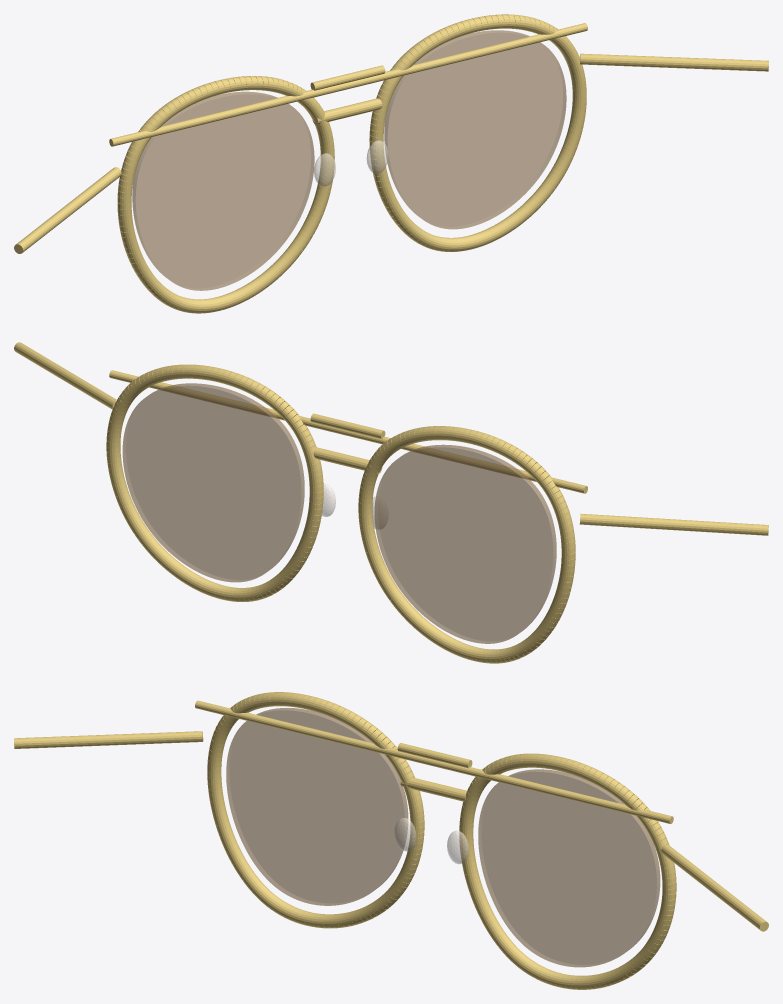
Rendered from w25-gold-brown-aviators.glb.
The picture shows the model from 3 angles, top to bottom: view 1: azimuth 30°, elevation 25°; view 2: azimuth 150°, elevation 25°; view 3: azimuth 330°, elevation 25°; orthographic projection.
Parts seen in each view (by area): view 1: lens_-1, lens_1, top_bar, right_temple, left_temple, bridge, brow_bridge, nose_pad_-0.045, nose_pad_0.045; view 2: lens_1, lens_-1, top_bar, left_temple, right_temple, brow_bridge, bridge; view 3: lens_1, lens_-1, top_bar, left_temple, right_temple, bridge, brow_bridge, nose_pad_-0.045, nose_pad_0.045.
Part boxes in pixels (<box>): lens_-1: <box>132,91,314,290</box>; lens_1: <box>384,30,566,229</box>; top_bar: <box>109,23,587,146</box>; right_temple: <box>580,53,768,71</box>; left_temple: <box>14,167,121,253</box>; bridge: <box>312,98,382,124</box>; brow_bridge: <box>310,65,385,90</box>; nose_pad_-0.045: <box>314,153,335,186</box>; nose_pad_0.045: <box>366,140,388,173</box>; lens_1: <box>122,383,304,582</box>; lens_-1: <box>374,444,556,643</box>; top_bar: <box>109,370,587,493</box>; left_temple: <box>579,513,768,535</box>; right_temple: <box>14,342,116,409</box>; brow_bridge: <box>310,413,385,438</box>; bridge: <box>313,447,382,473</box>; lens_1: <box>478,769,660,967</box>; lens_-1: <box>226,708,408,905</box>; top_bar: <box>195,700,673,823</box>; left_temple: <box>14,731,203,748</box>; right_temple: <box>661,844,768,931</box>; bridge: <box>400,778,466,801</box>; brow_bridge: <box>397,743,472,768</box>; nose_pad_-0.045: <box>394,818,416,851</box>; nose_pad_0.045: <box>447,830,468,864</box>.
Size of the model in its own units: 1.29 by 0.3738 by 0.157.
